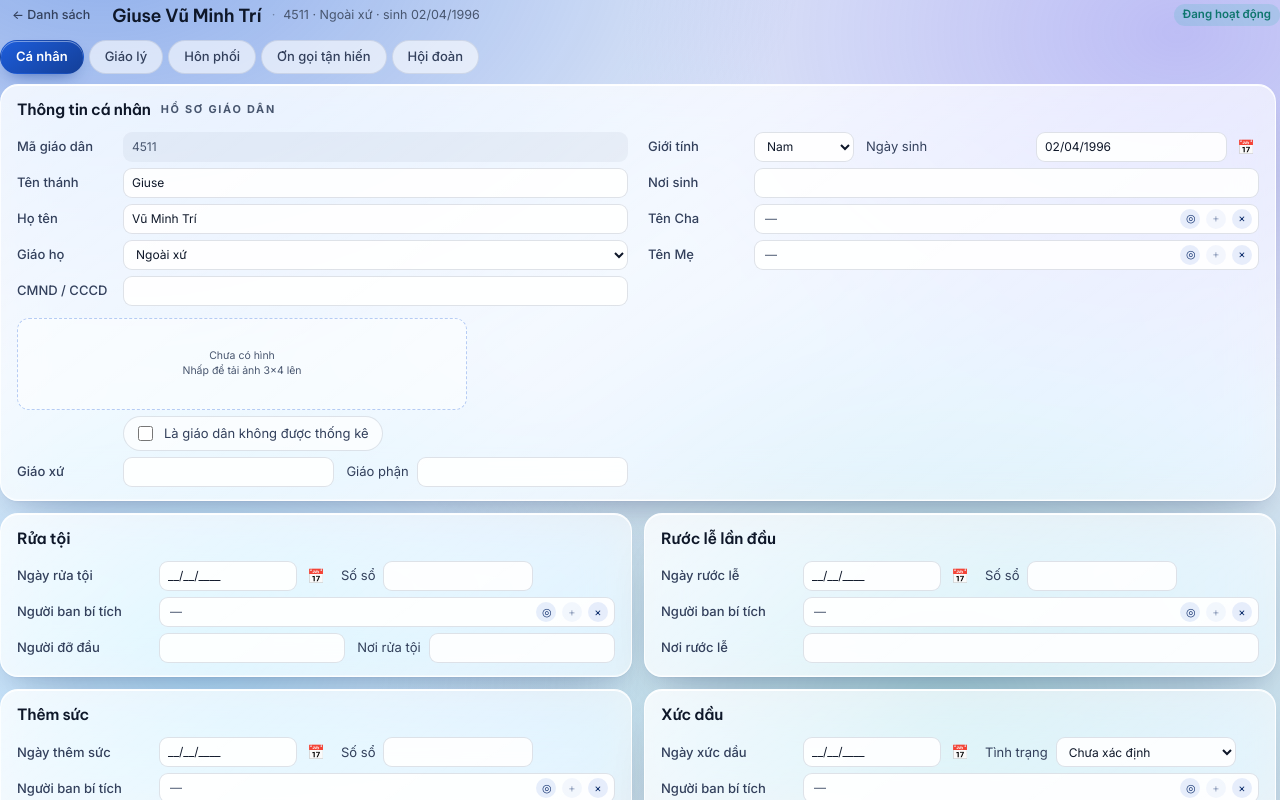
Test: GiaoDanDetailPage › tai danh sach hon phoi that tu API va hien trong tab
expect the heading "Giuse Vũ Minh Trí" is shown: met, box x1=112 y1=2 x2=262 y2=28
Click the tab "Hôn phối". click: (212, 57)
box: x1=168 y1=40 x2=256 y2=74
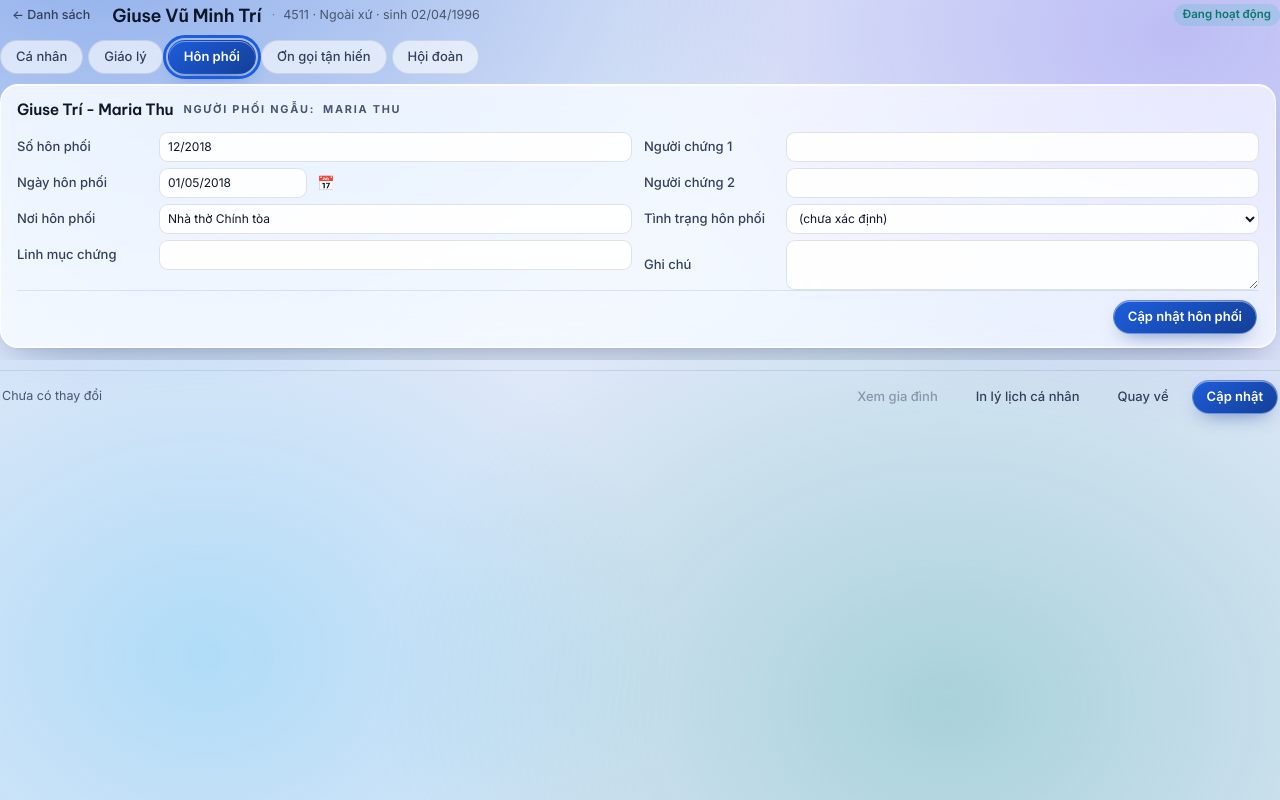
expect the field showing "12/2018" is shown: met, box x1=159 y1=132 x2=632 y2=162
